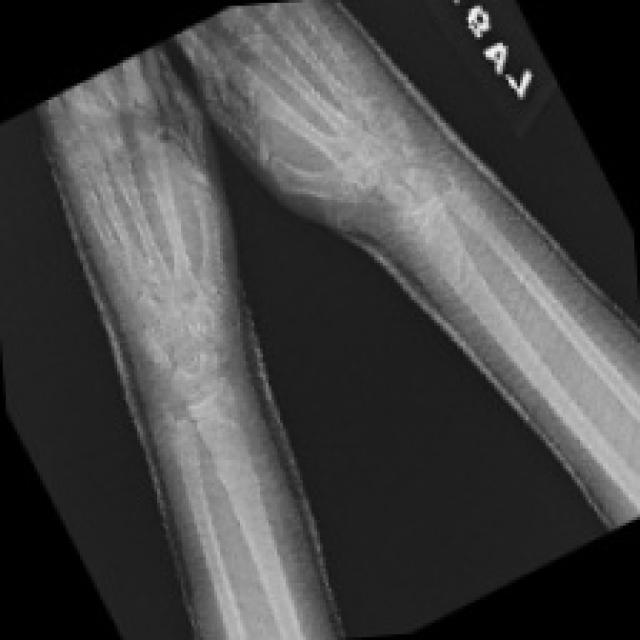fracture: (412, 233, 494, 327)
